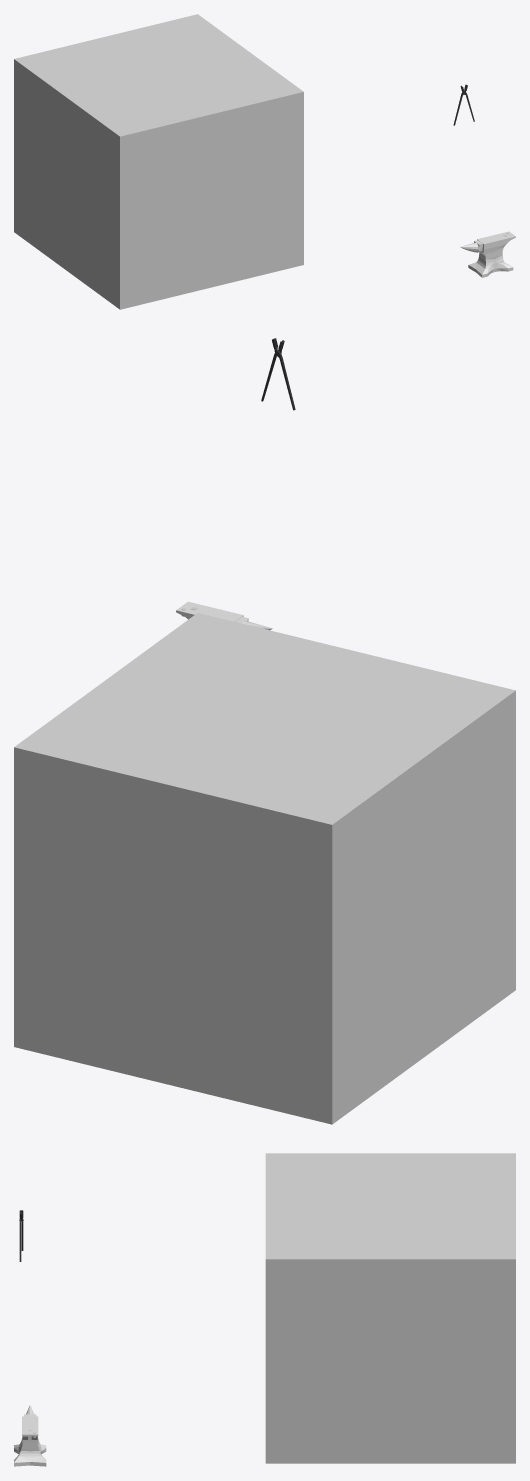
File: hollowbittongopen.dae
3 renders of one model, top to bottom at view 1: azimuth 30°, elevation 25°; view 2: azimuth 150°, elevation 25°; view 3: azimuth 270°, elevation 25°, orthographic. The views are drawn at different scales.
Parts seen in each view (by area): view 1: Cube_004, Cube_002; view 2: Cube_004; view 3: Cube_004, Cube_002.
Boxes of the visible parts, x1,y1,x2,y2 form: Cube_004: [14, 14, 303, 309]; Cube_002: [460, 231, 515, 277]; Cube_004: [14, 613, 515, 1124]; Cube_004: [265, 1153, 515, 1463]; Cube_002: [14, 1405, 46, 1466].
Size of the model in its own units: 3.18 by 4.01 by 2.51.
Materials: 1 (1 with a texture image).
